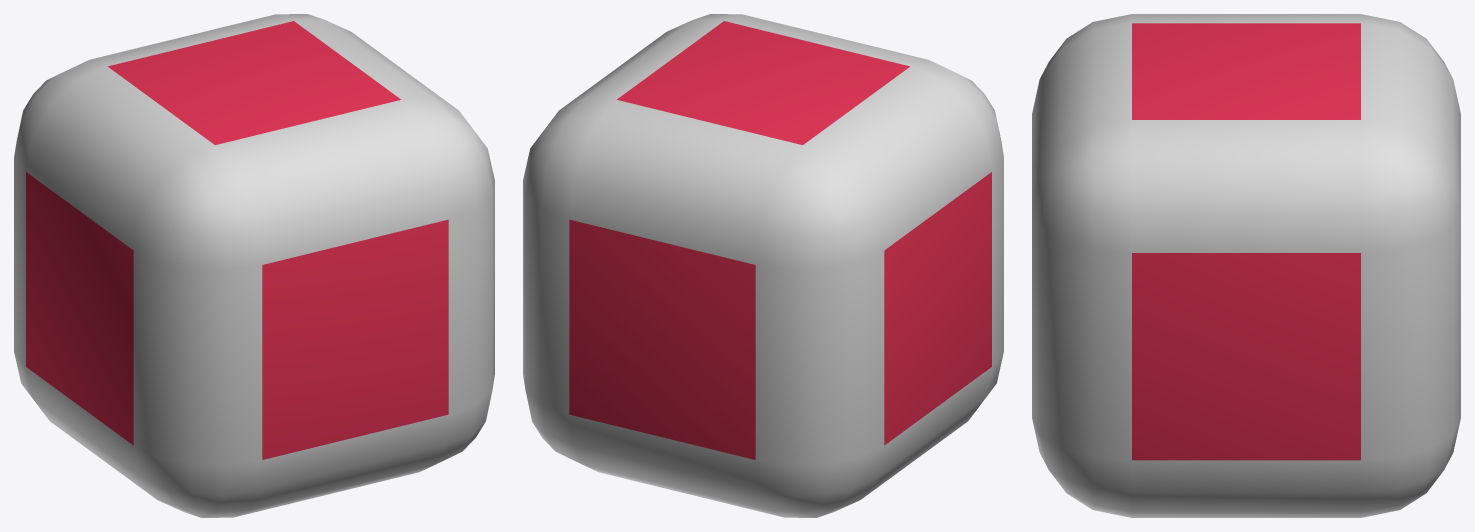
The model's file is Neon currency.fbx.
3 renders of one model, left to right at view 1: azimuth 30°, elevation 25°; view 2: azimuth 150°, elevation 25°; view 3: azimuth 270°, elevation 25°, orthographic. The views are drawn at different scales.
Parts seen in each view (by area): view 1: Cube.010; view 2: Cube.010; view 3: Cube.010.
Part boxes in pixels (box(x1,y1,x2,y2)): Cube.010: box(14, 14, 494, 517); Cube.010: box(523, 14, 1003, 517); Cube.010: box(1032, 14, 1460, 517).
Size of the model in its own units: 200 by 200 by 200.
